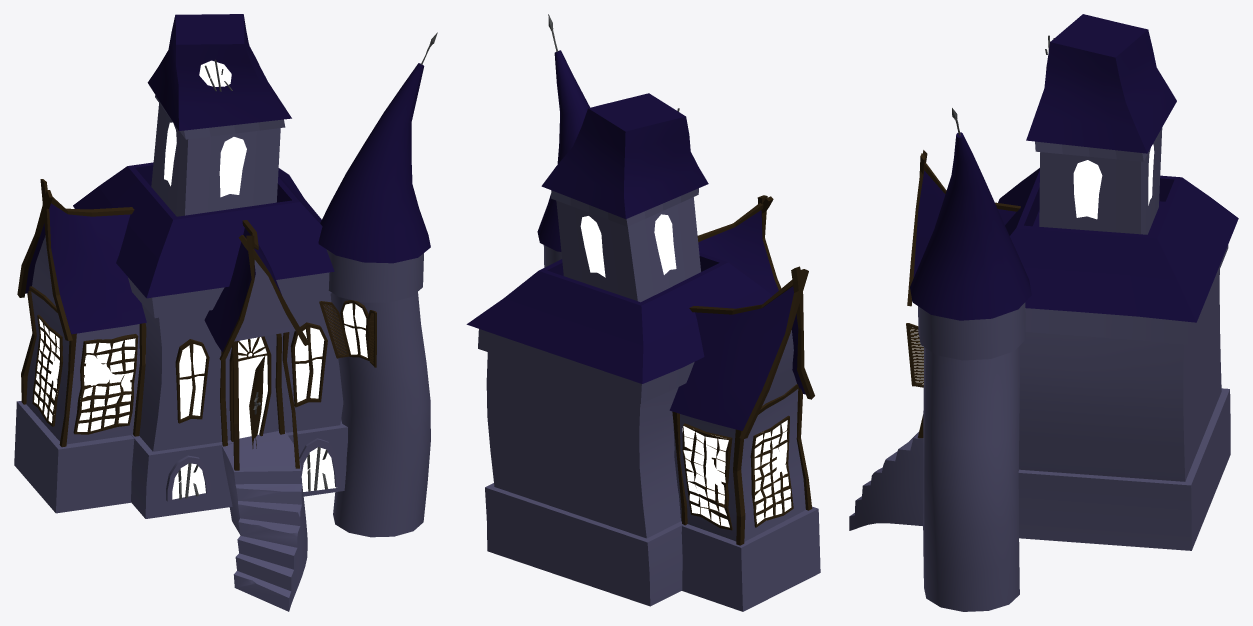
The model's file is 001_DDM_Ferreira_Diaz_Lucía.fbx.
The picture shows the model from 3 angles, left to right: view 1: azimuth 30°, elevation 25°; view 2: azimuth 150°, elevation 25°; view 3: azimuth 270°, elevation 25°; orthographic projection. The views are drawn at different scales.
Visible parts, largest first — view 1: estructura casa, torre, tejado 2, estructura casa 3, tejado torre, escalera, tejado, estructura casa 2, tejado 3, emision ventana 7, ventana 7, tejado entrada (+29 smaller); view 2: estructura casa, tejado 2, estructura casa 3, tejado, tejado 3, estructura casa 2, tejado entrada, tejado torre, emision ventana 8, emision ventana 9, ventana 9, ventana 8 (+8 smaller); view 3: estructura casa, torre, tejado 2, tejado, tejado torre, estructura casa 2, escalera, tejado entrada, emision ventana 6, ventana torre, viga 5.
Boxes of the visible parts, x1,y1,x2,y2 form: estructura casa: (128,272,347,518); torre: (326,249,430,537); tejado 2: (73,162,334,298); estructura casa 3: (14,235,145,513); tejado torre: (318,63,430,263); escalera: (220,431,307,611); tejado: (147,14,291,130); estructura casa 2: (151,95,285,216); tejado 3: (25,203,146,334); emision ventana 7: (77,338,135,431); ventana 7: (73,334,138,434); tejado entrada: (204,228,296,352); estructura casa: (478,329,694,606); tejado 2: (466,252,772,383); estructura casa 3: (673,330,820,611); tejado: (541,93,708,218); tejado 3: (669,286,805,430); estructura casa 2: (551,188,700,302); tejado entrada: (698,210,778,295); tejado torre: (537,50,589,251); emision ventana 8: (682,426,729,527); emision ventana 9: (754,420,791,523); ventana 9: (750,415,793,527); ventana 8: (682,423,732,530); estructura casa: (1018,245,1230,550); torre: (918,302,1025,611); tejado 2: (998,168,1238,322); tejado: (1026,14,1176,153); tejado torre: (910,132,1031,320); estructura casa 2: (1035,127,1162,234); escalera: (849,432,922,530); tejado entrada: (912,170,1016,300); emision ventana 6: (1073,160,1102,219); ventana torre: (906,323,923,387); viga 5: (907,150,927,306).
Bounding box in the file's own units: 732 × 1060 × 712.
